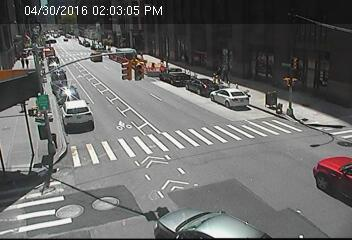neg: (270, 100, 284, 119), (118, 61, 132, 80), (43, 106, 55, 122), (146, 58, 157, 73), (80, 36, 89, 49)
pos: (211, 58, 231, 84), (24, 56, 32, 67), (19, 57, 26, 66)
